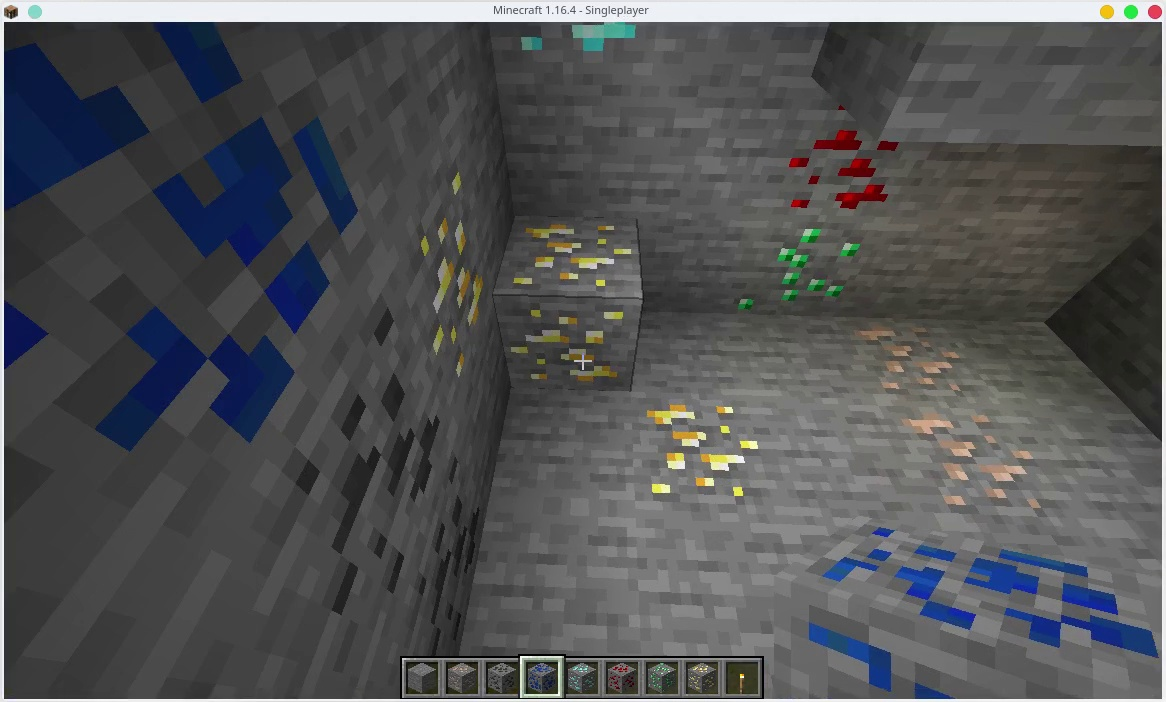gold: (508, 196, 635, 391), (638, 380, 780, 515), (403, 173, 489, 383), (684, 661, 719, 702)
